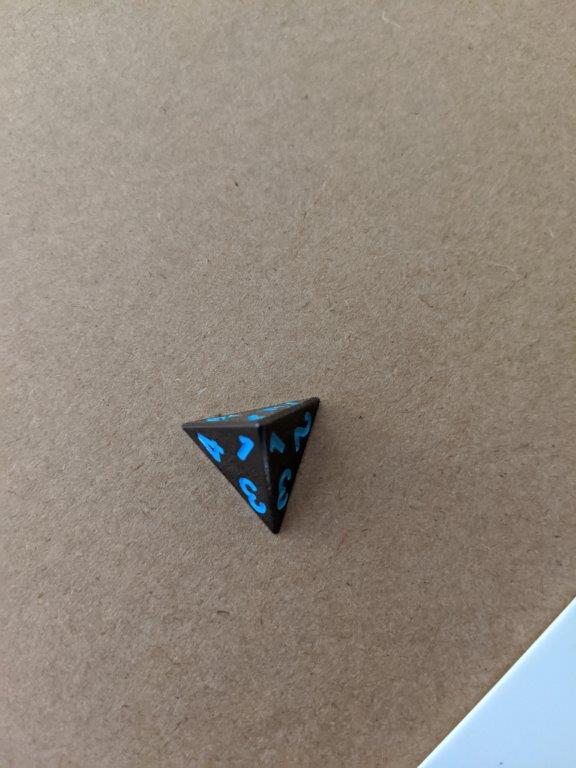d4-1: (180, 393, 323, 535)
